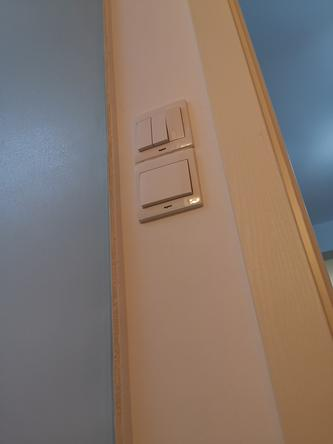switch: (137, 156, 200, 210), (131, 115, 157, 152), (148, 109, 172, 146), (162, 106, 186, 142)
